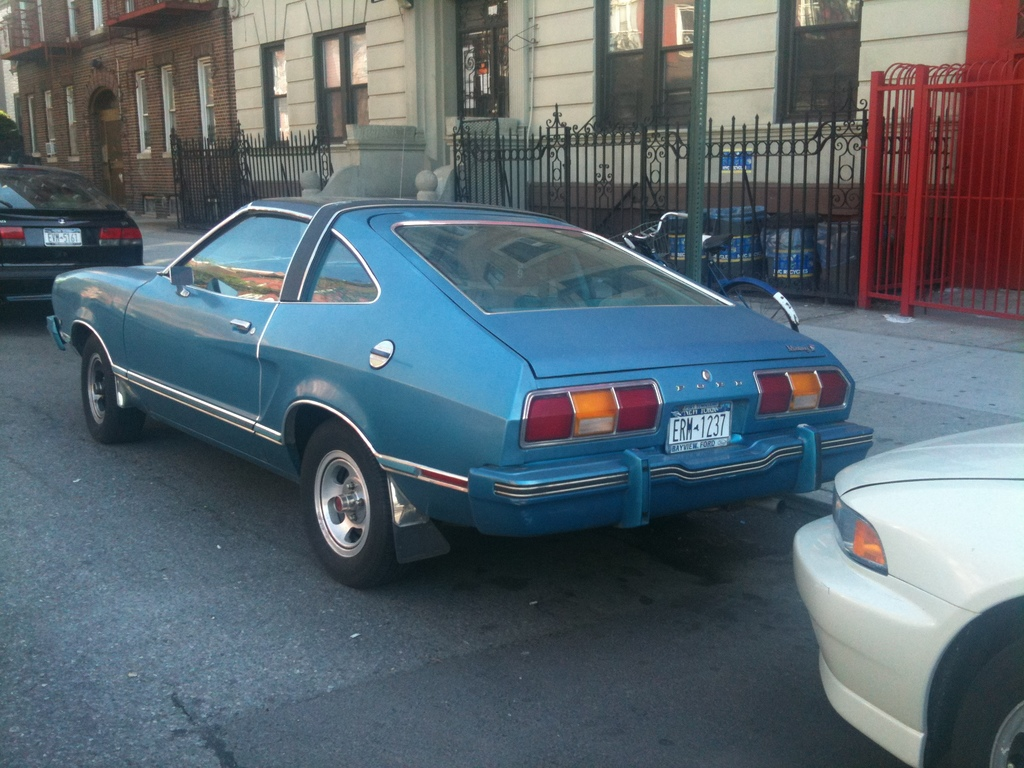license plate: (669, 409, 728, 451)
